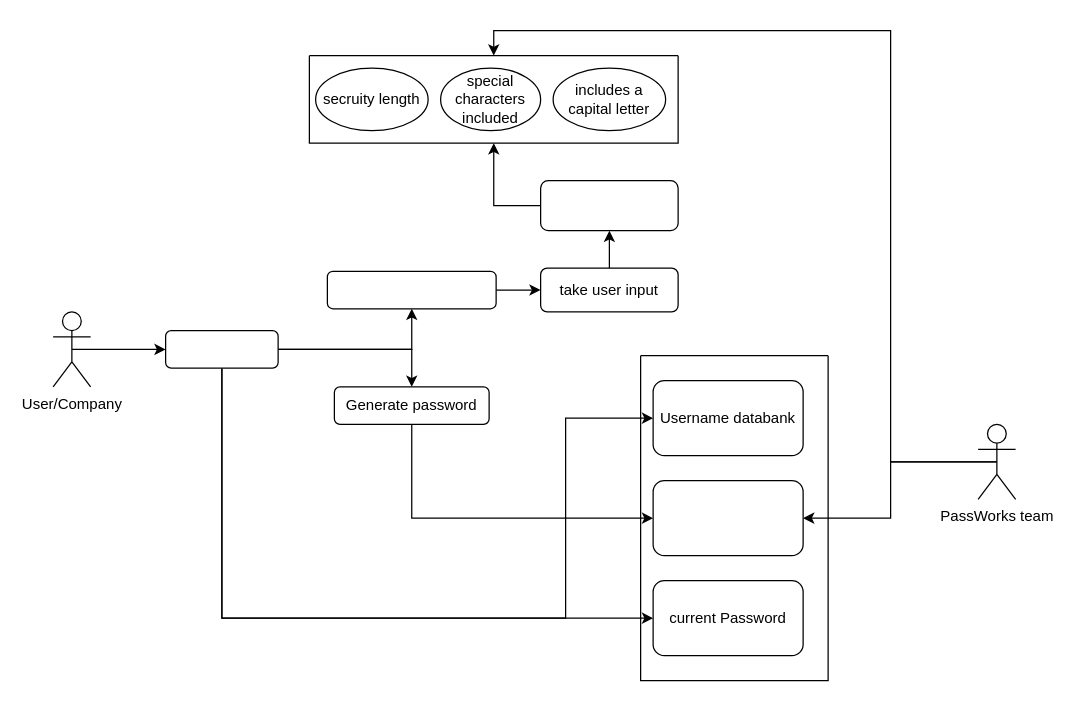
The diagram is 1074 pixels wide and 703 high, and some of its shapes have lost their labels. The centre of each missing label's shape, as x and y in pixels:
Create original password: (411,289)
Login: (221,348)
password check criteria: (608,205)
password databank: (727,517)
